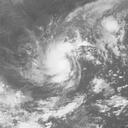cyclone: (26, 32, 91, 89)
